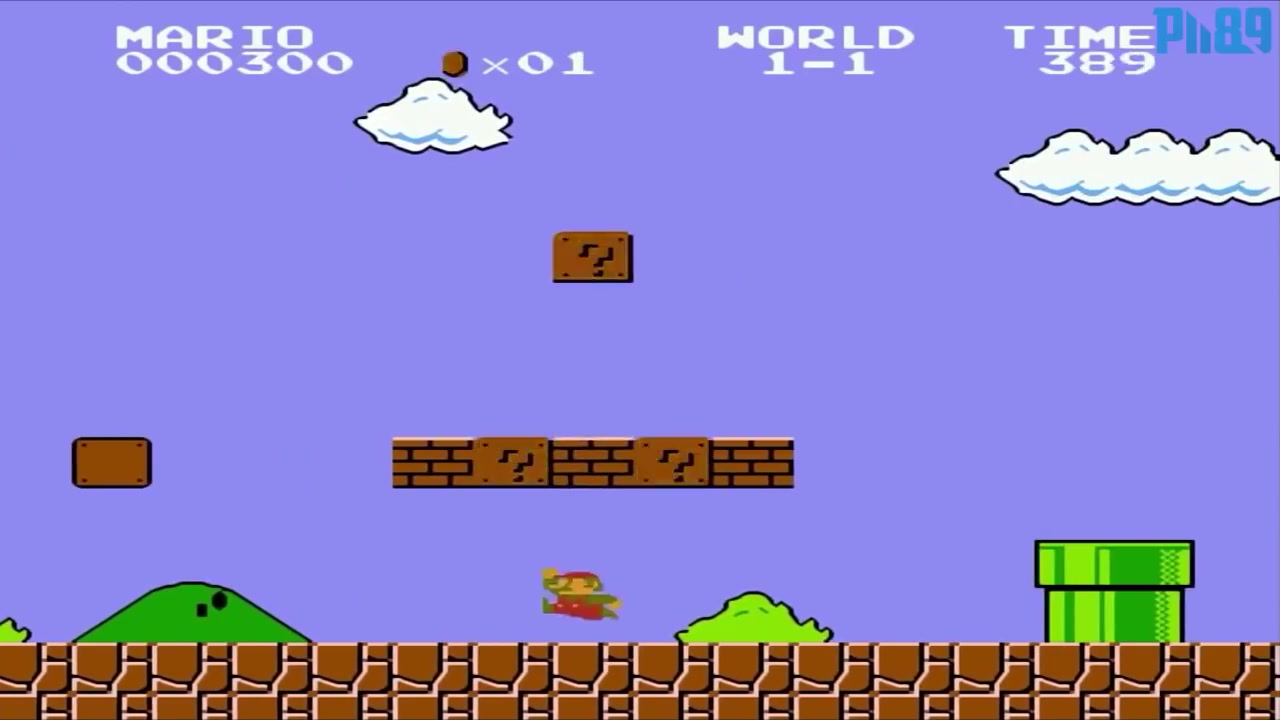mario: (538, 560, 627, 629)
